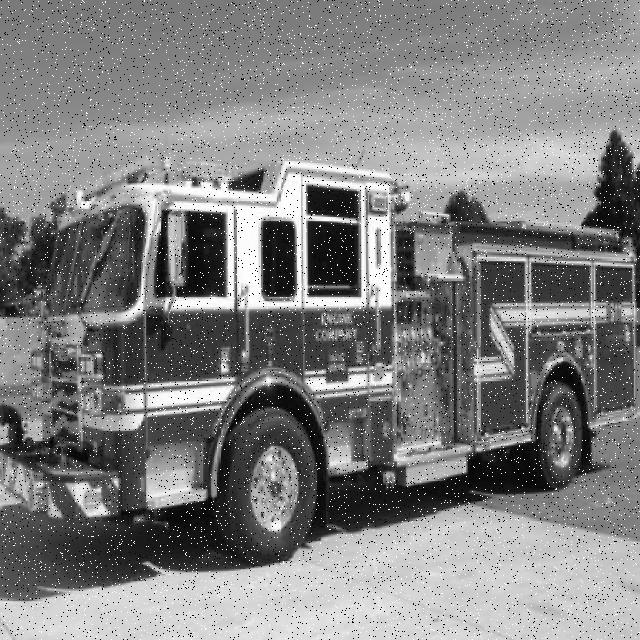Fire Truck: (0, 155, 640, 568)
